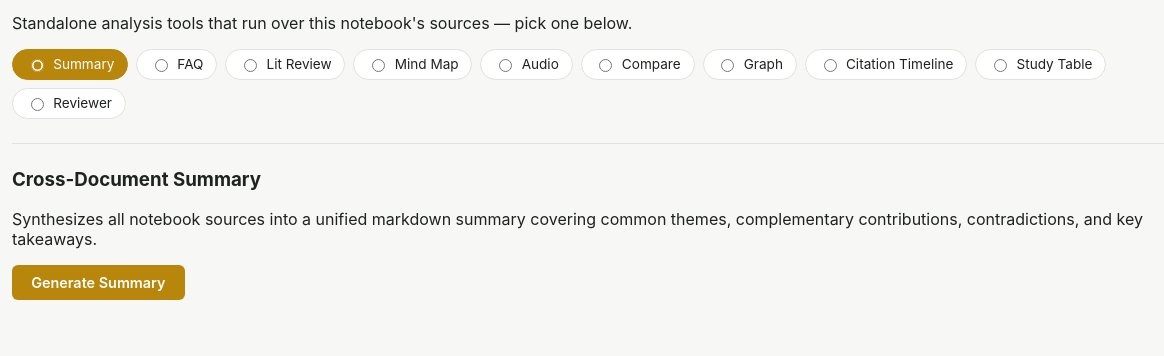
Test: AdvancedToolsTab › switches the visible panel when a different tool radio is selected
Click the radio button labelled "FAQ" at (162, 66), box x1=155 y1=59 x2=168 y2=72
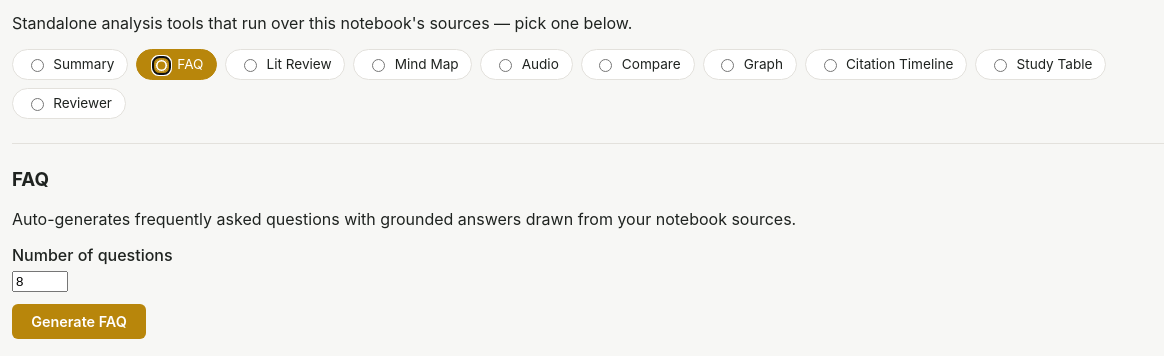
Now the heading "FAQ" is shown, box x1=12 y1=168 x2=49 y2=191
Now the heading "Cross-Document Summary" is gone
Click the radio button labelled "Mind Map" at (379, 66), box x1=372 y1=59 x2=385 y2=72
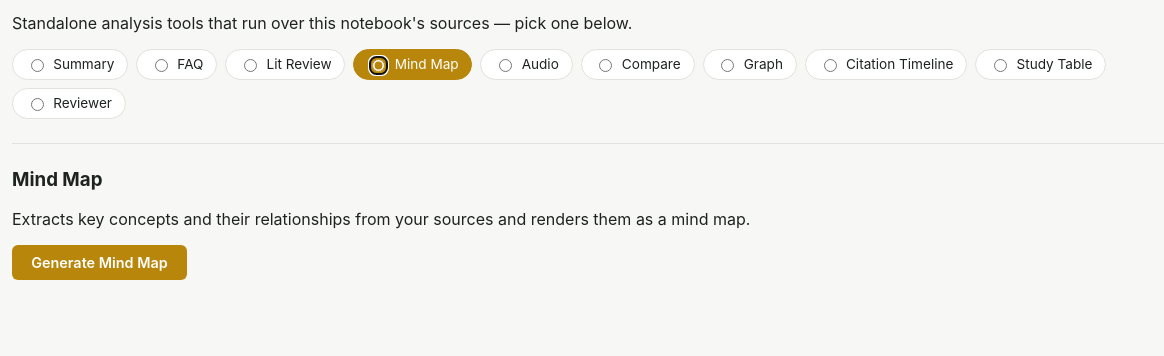
Now the heading "Mind Map" is shown, box x1=12 y1=168 x2=102 y2=191
